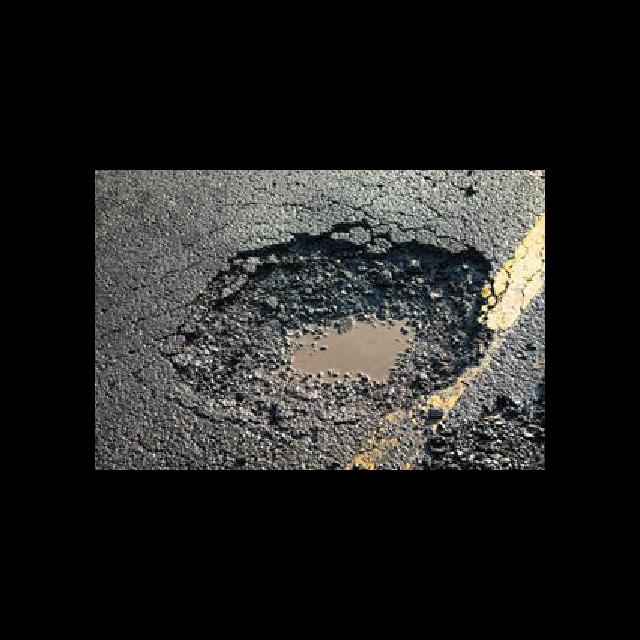lubang_kecil: (163, 207, 497, 416)
